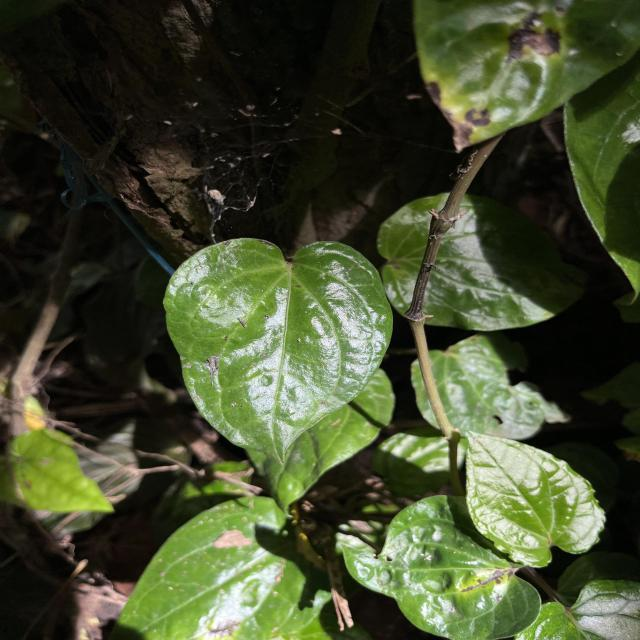Piper betle: (160, 236, 398, 470)
